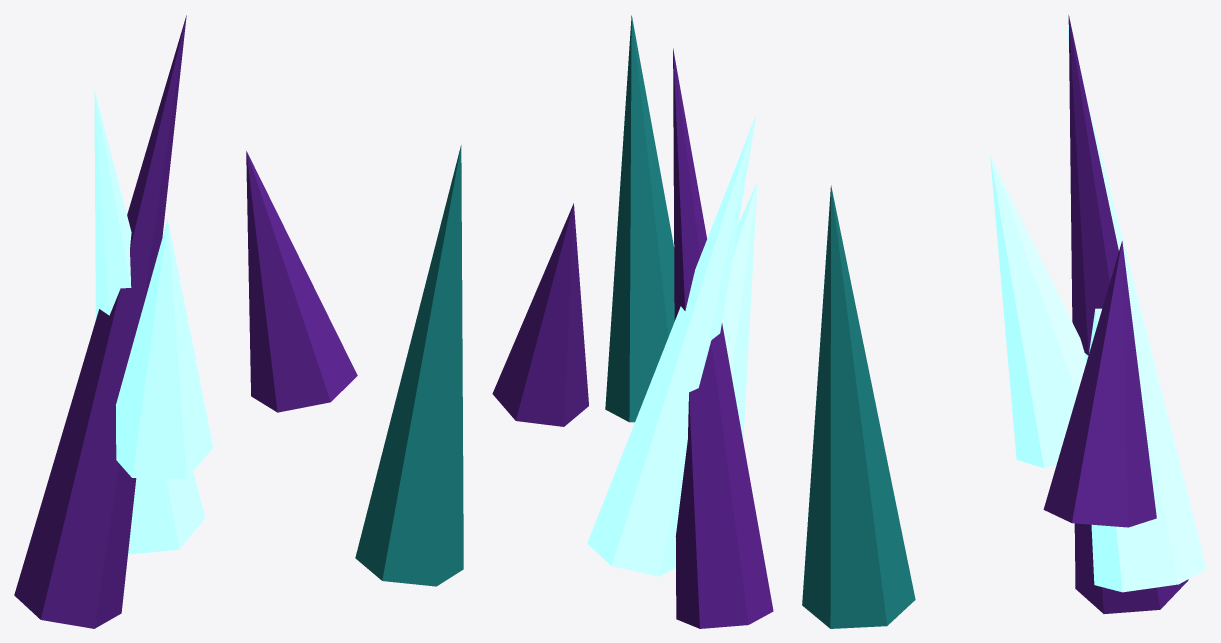
File: Prop_OR_Crystal_14.glb
The picture shows the model from 3 angles, left to right: view 1: azimuth 30°, elevation 25°; view 2: azimuth 150°, elevation 25°; view 3: azimuth 270°, elevation 25°; orthographic projection. The views are drawn at different scales.
Visible parts, largest first — view 1: Prop_OR_Crystal_14; view 2: Prop_OR_Crystal_14; view 3: Prop_OR_Crystal_14.
Boxes of the visible parts, <box> form: Prop_OR_Crystal_14: <box>14,15,463,628</box>; Prop_OR_Crystal_14: <box>492,15,773,628</box>; Prop_OR_Crystal_14: <box>802,15,1206,628</box>.
Bounding box in the file's own units: 0.7996 × 1.52 × 0.8899.
